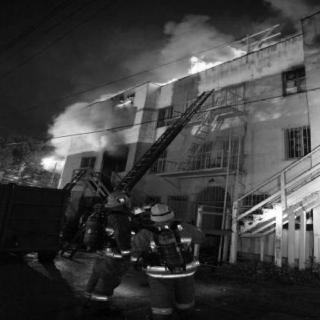Fire: (231, 46, 258, 56)
